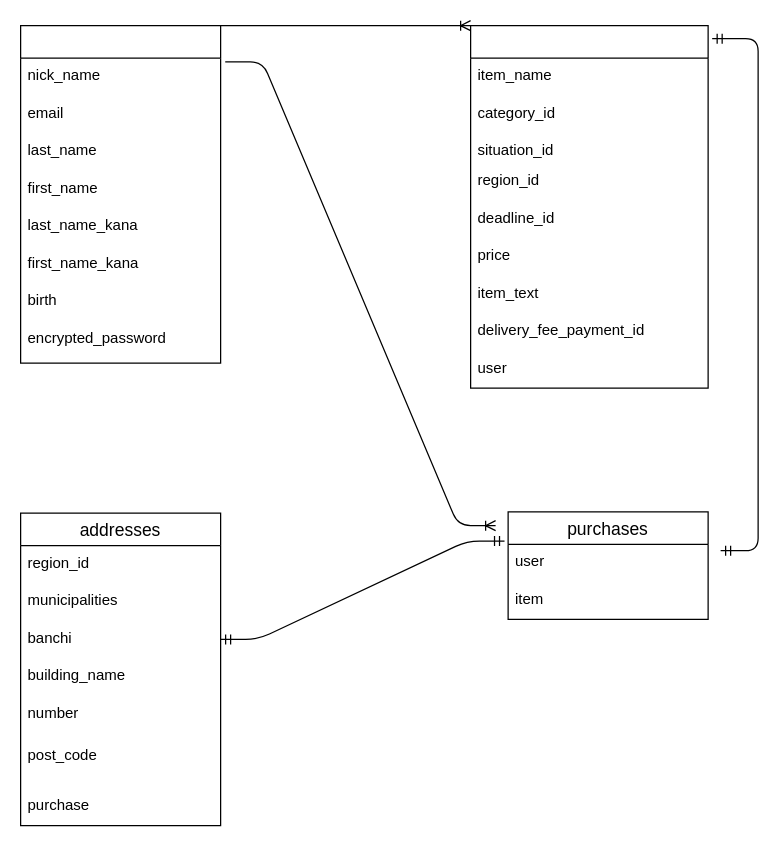
The diagram is 779 pixels wide and 846 high, and some of its shapes have lost their labels. Here are the shapes that lost their labels. From the top down, the box of each, then its label:
(19, 24, 221, 363): users
(469, 24, 708, 388): items
